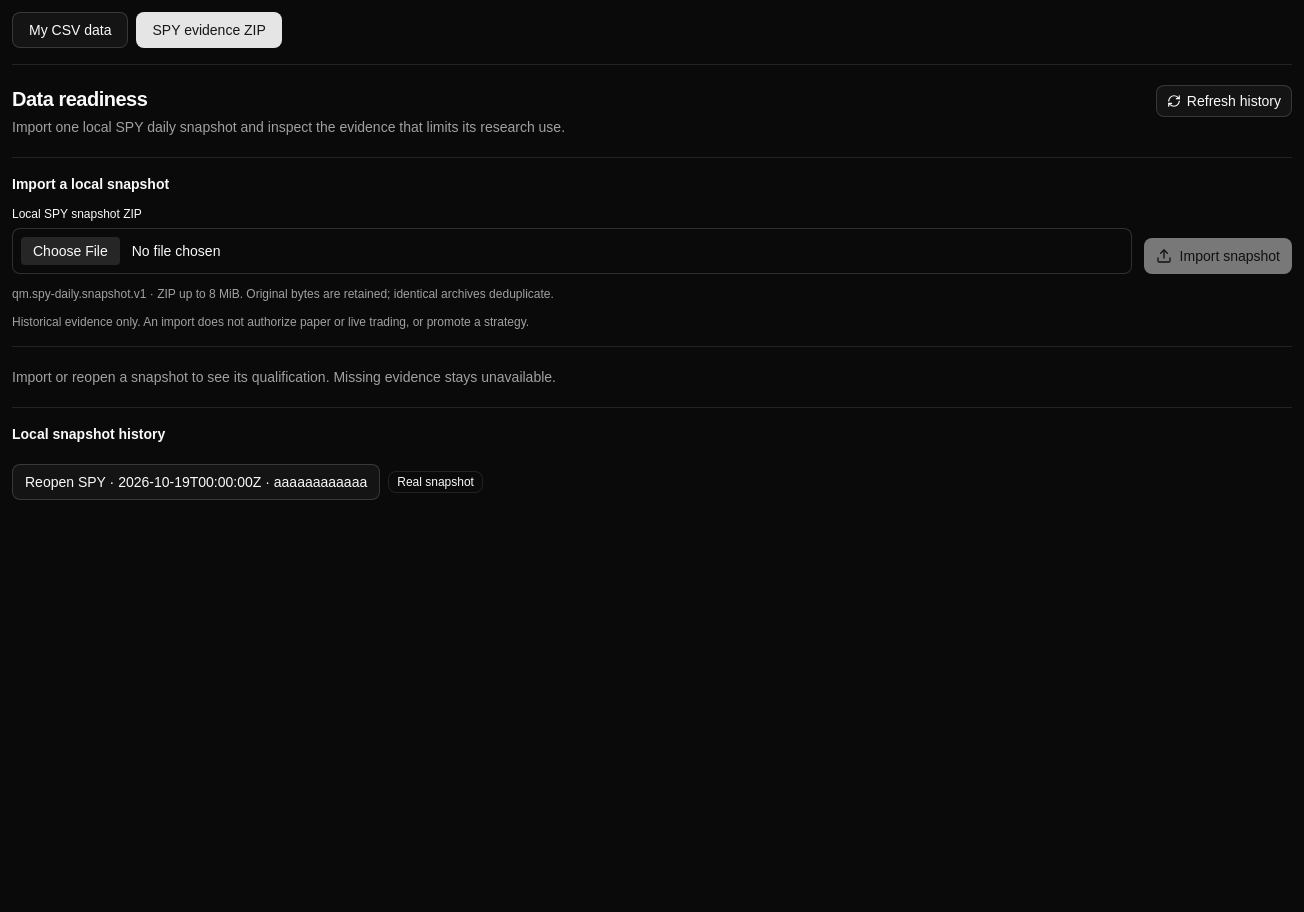
Test: leaves unknown coverage values unavailable rather than fabricating zero
The width and height of the screenshot is (1304, 912).
Click the button "Reopen SPY · 2026-10-19T00:00:00Z · aaaaaaaaaaaa" at [196, 482], box [12,464,380,500]
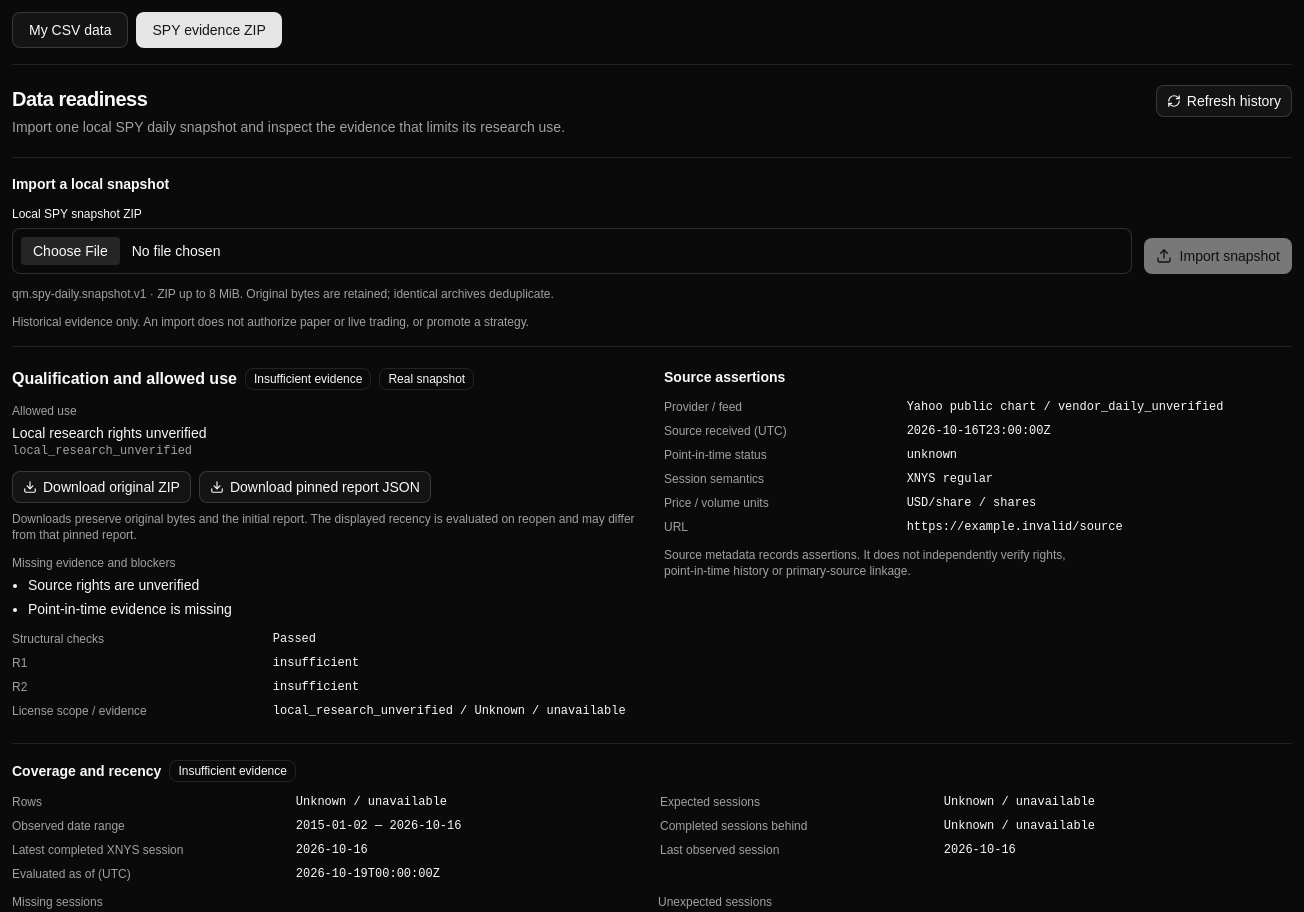
Expected: the text "Unknown / unavailable" is shown 3 times, [296,795,447,809]; [944,795,1095,809]; [944,819,1095,833]
